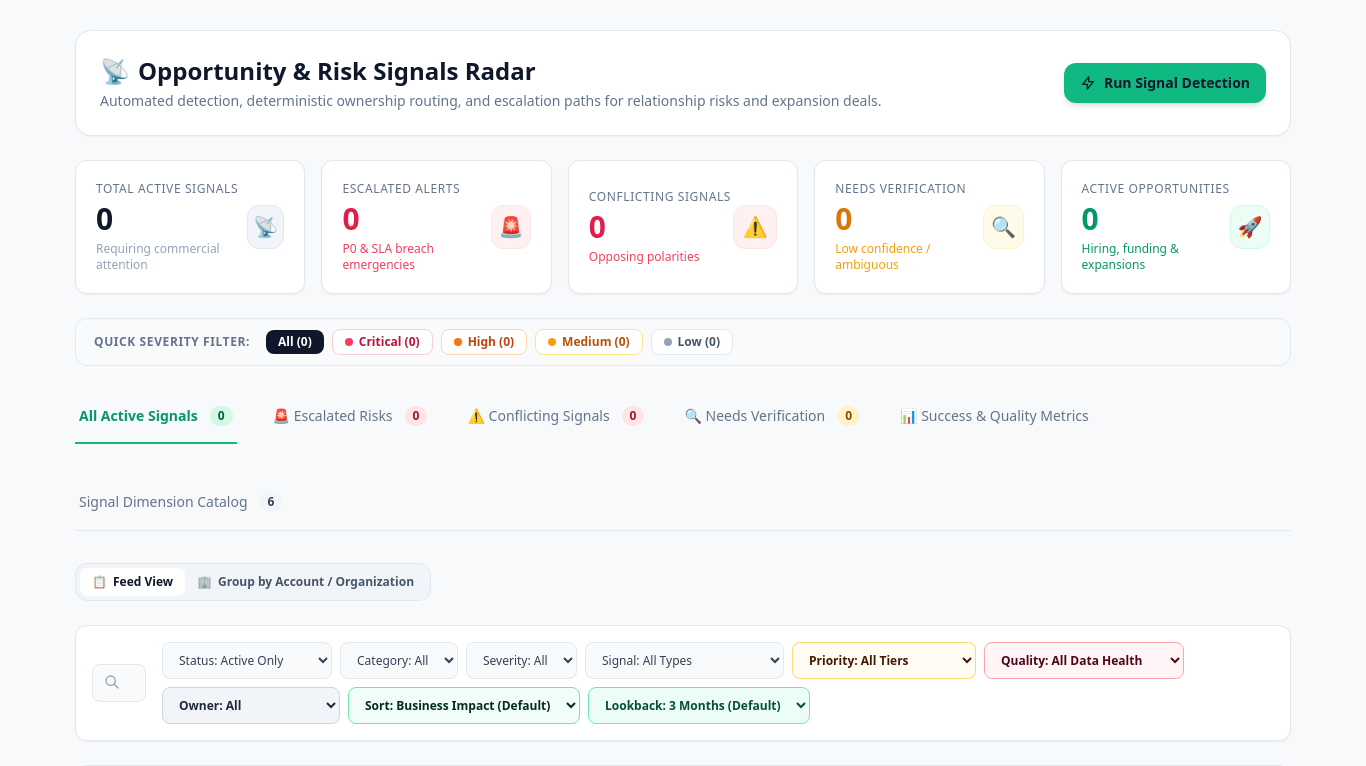
Test: SignalsPage Component › filters to uncertain signals when selecting Needs Verification tab
Click the text "🔍 Needs Verification" at (755, 416), box top-left (684, 406), bottom-right (825, 426)
(page scrolled)
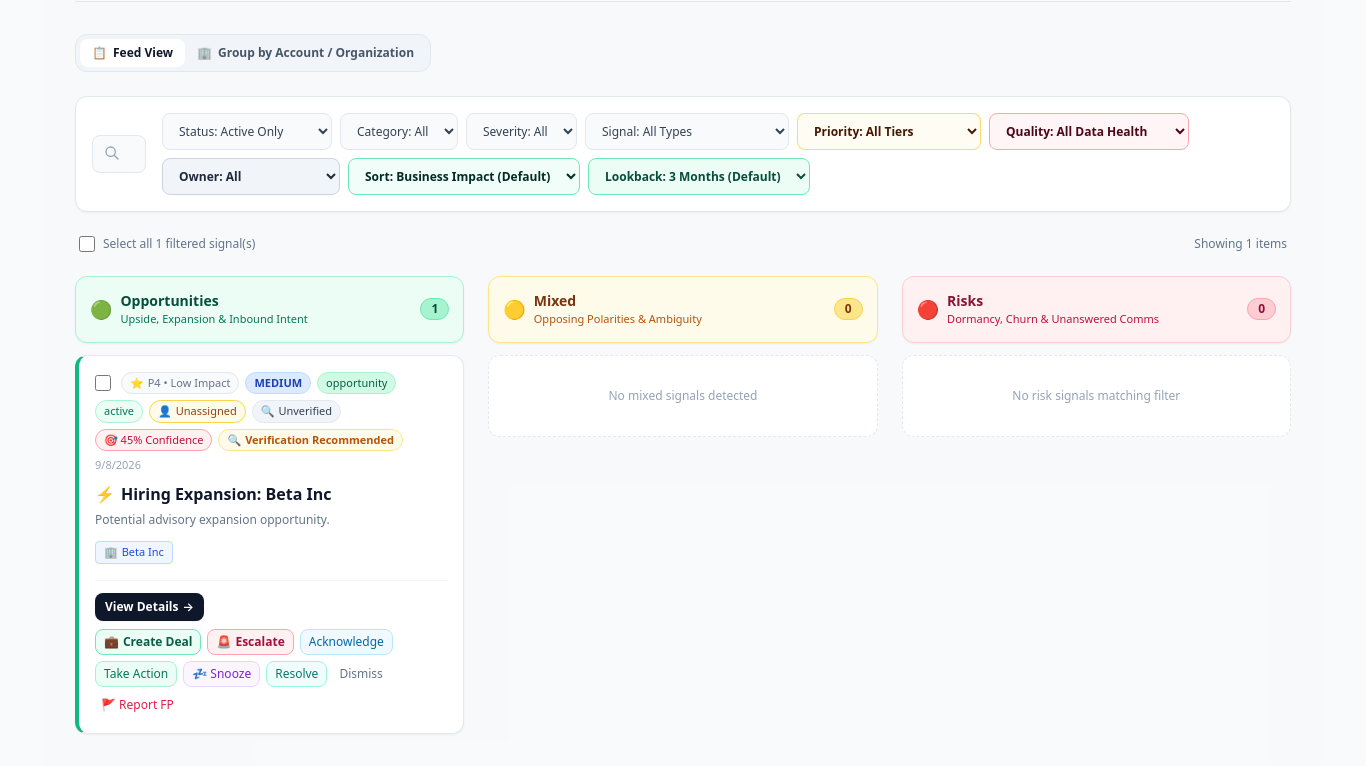
Expected: the text "Hiring Expansion: Beta Inc" is shown, top-left (121, 482), bottom-right (332, 506)
Expected: the text "Verification Recommended" is shown, top-left (245, 432), bottom-right (394, 448)
